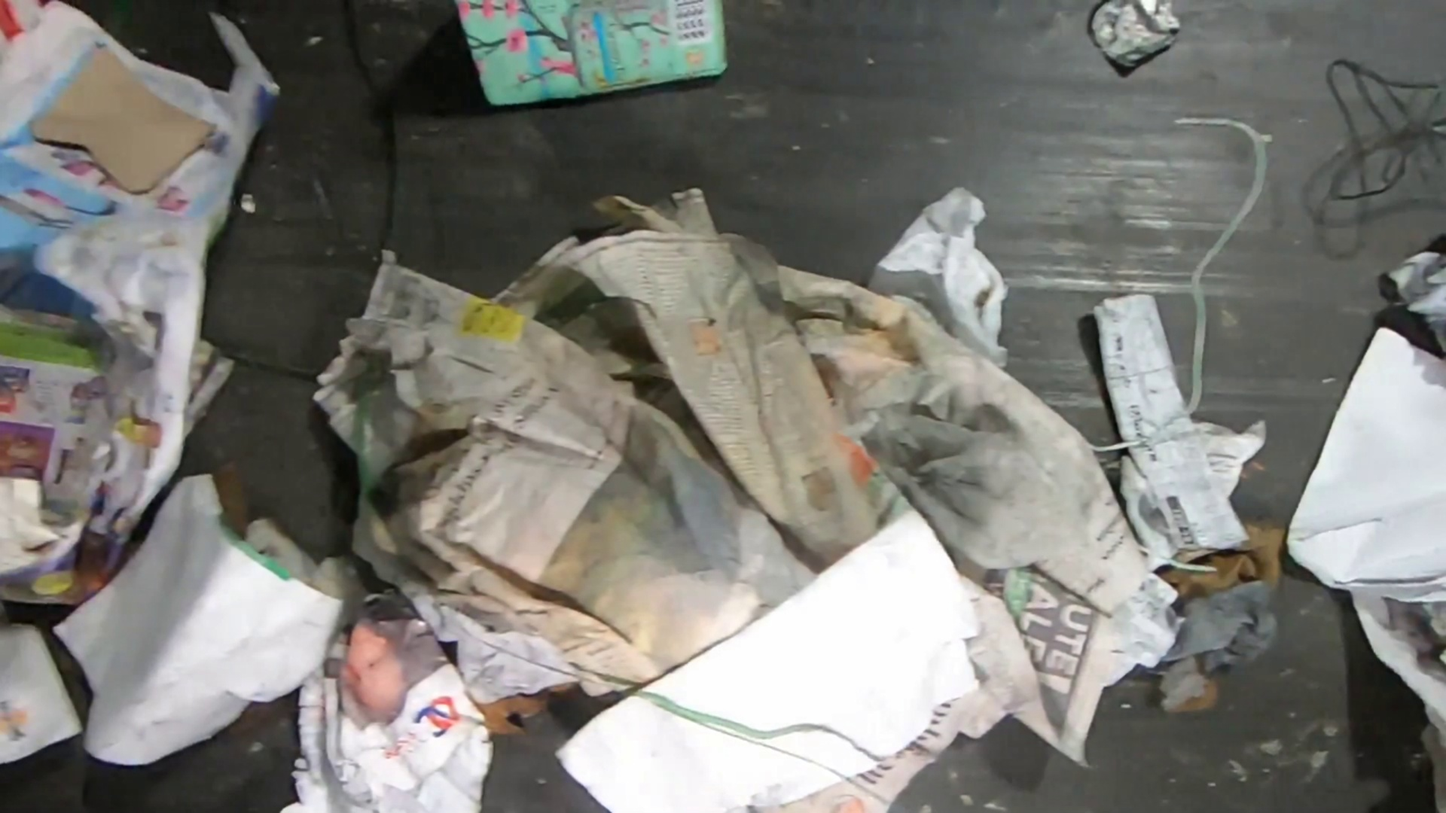cardboard: (452, 0, 725, 107), (31, 46, 218, 197)
